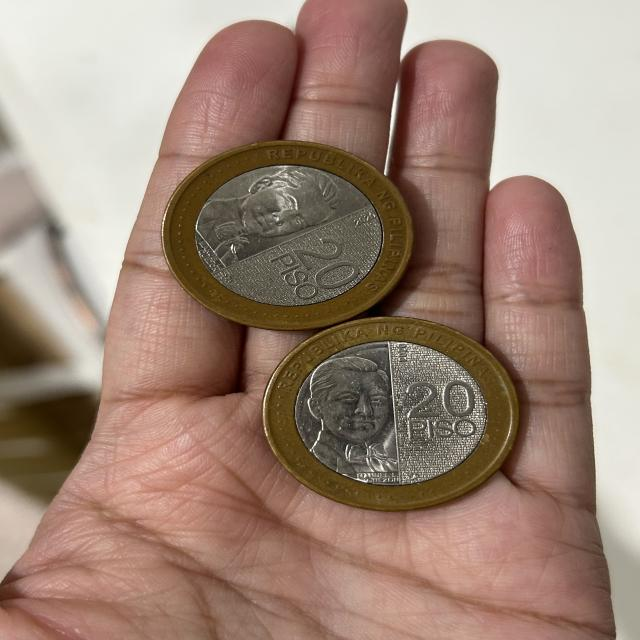20_New_Front: (264, 235, 362, 308), (395, 371, 483, 443)
